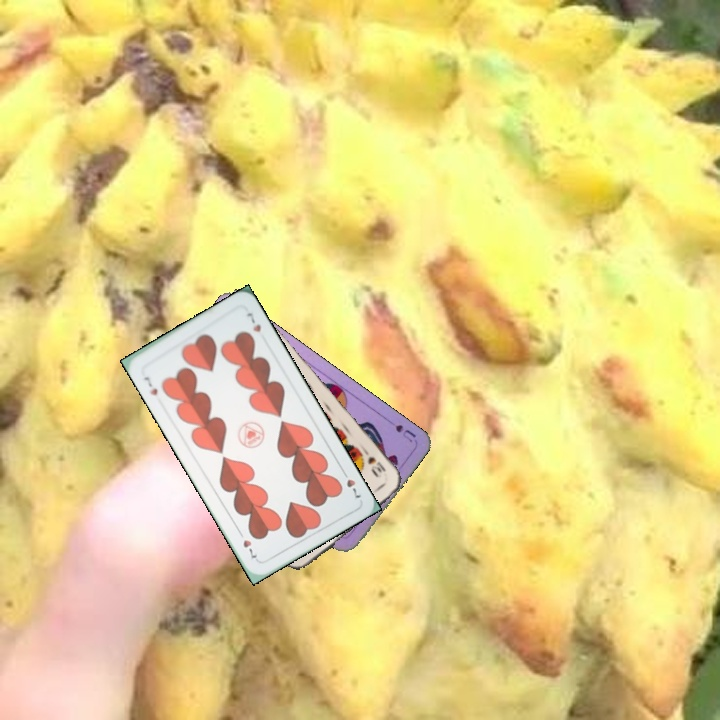H7: (337, 465, 364, 502), (140, 373, 160, 398)
S10: (359, 446, 388, 479)
SU: (391, 420, 419, 445)
